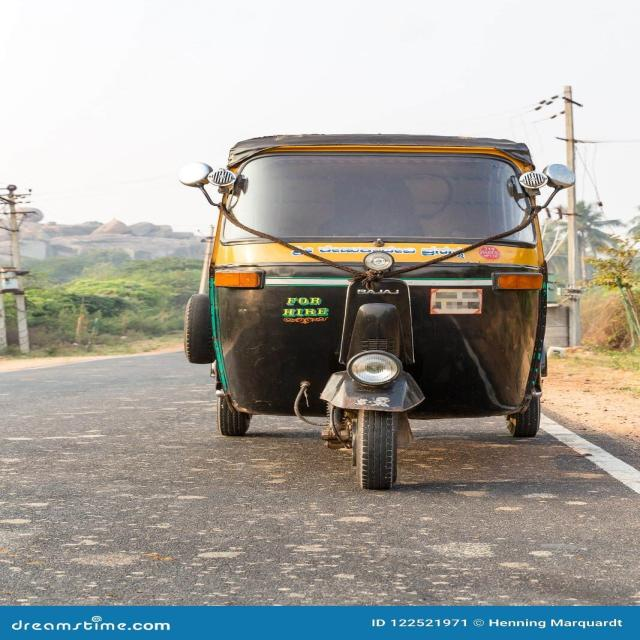autorickshaw: (178, 134, 574, 489)
